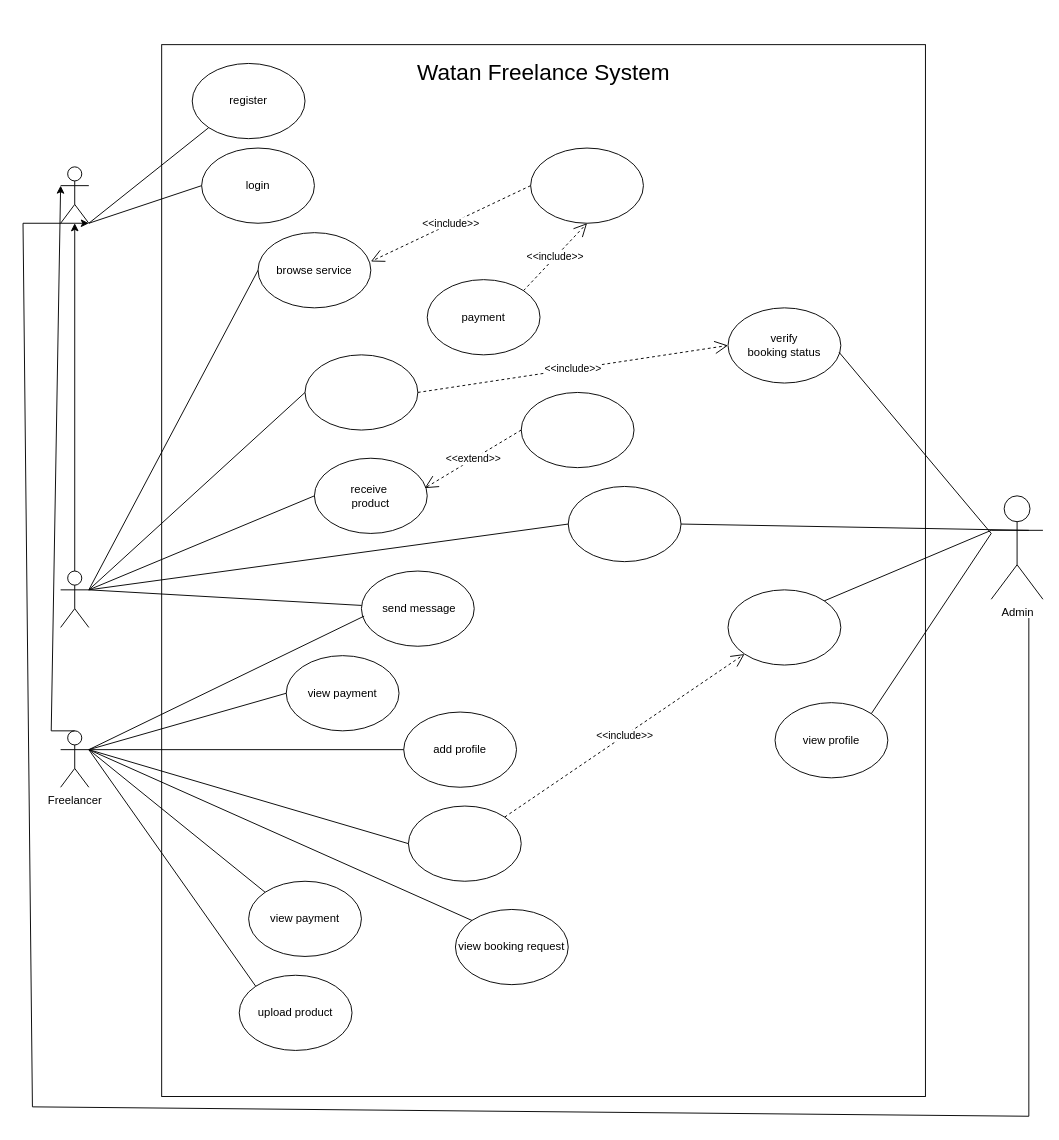
Image size: 1059x1140. Some labels were removed from this diagram. The shapes that lost their labels are listed below. From the top down, each one's centre as x and y in pixels, then its label:
point (74, 194): User
point (586, 185): book freelancer
point (361, 392): receive booking status
point (577, 430): give feedback
point (624, 524): view booking details
point (74, 598): Client
point (784, 627): verify service
point (464, 843): add service
